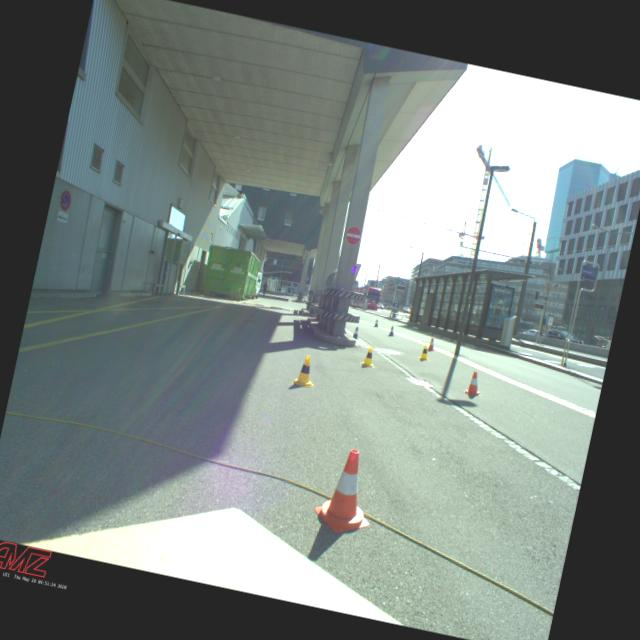blue_cone: (350, 326, 360, 340), (388, 325, 396, 336), (373, 318, 379, 328)
orange_cone: (310, 443, 383, 538), (464, 369, 484, 396), (426, 337, 436, 351)
yellow_cone: (291, 354, 319, 388), (359, 345, 378, 368), (418, 343, 431, 361)
